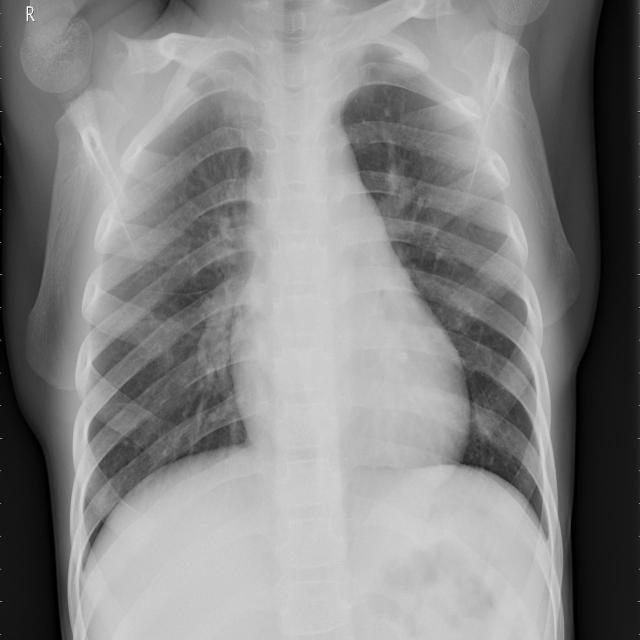no-pneumonia: (343, 72, 552, 534), (78, 91, 258, 559)
